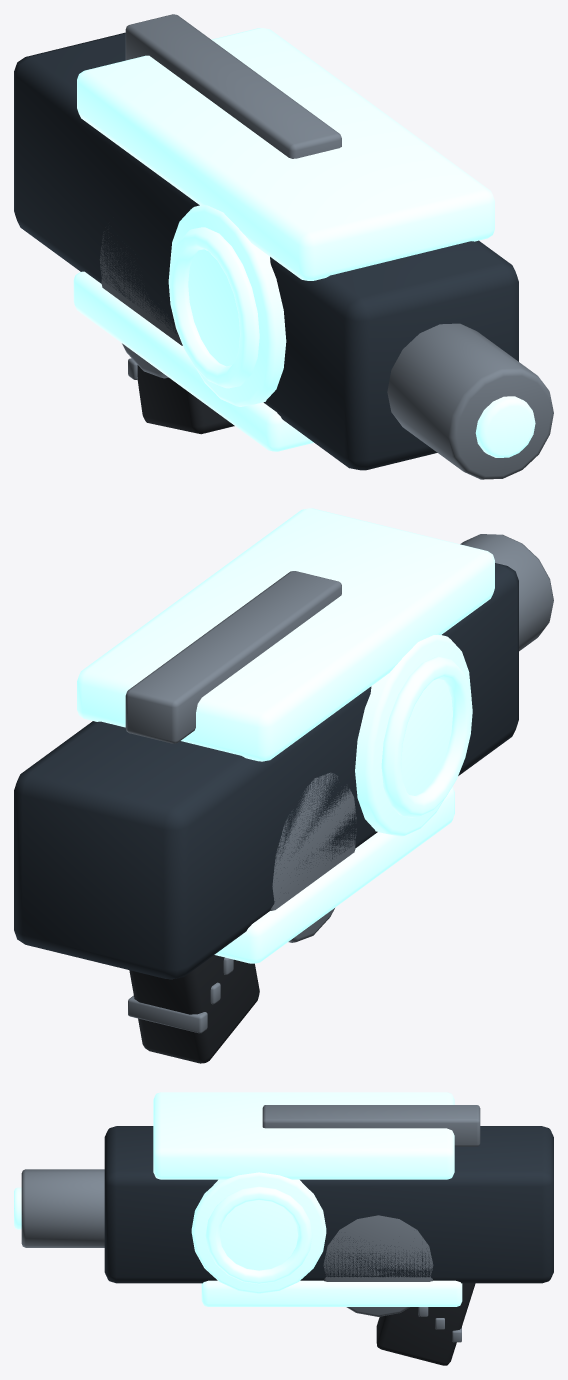
File: Technician_Thumper.fbx
3 views of the same model, one above another, from view 1: azimuth 30°, elevation 25°; view 2: azimuth 150°, elevation 25°; view 3: azimuth 270°, elevation 25° (orthographic). The views are drawn at different scales.
Parts seen in each view (by area): view 1: Receiver.008, UpperArmor.004, Muzzle.004, TopRail.008, EnergyChamber.004, LowerArmor.004, EnergyRingLeft.004, Grip.008, MuzzleGlow.004, Drum; view 2: Receiver.008, UpperArmor.004, TopRail.008, EnergyChamber.004, Grip.008, LowerArmor.004, Drum, EnergyRingLeft.004, Muzzle.004, GripRib_03.008; view 3: Receiver.008, UpperArmor.004, EnergyChamber.004, Muzzle.004, Drum, LowerArmor.004, TopRail.008, Grip.008, EnergyRingRight.004.
Part boxes in pixels (x1,y1,x2,y2): Receiver.008: (14,32,518,470); UpperArmor.004: (77,28,494,280); Muzzle.004: (387,323,553,479); TopRail.008: (125,14,341,158); EnergyChamber.004: (169,205,286,406); LowerArmor.004: (73,271,313,451); EnergyRingLeft.004: (168,227,259,388); Grip.008: (137,365,234,434); MuzzleGlow.004: (475,396,535,457); Drum: (99,227,182,378); Receiver.008: (14,563,518,979); UpperArmor.004: (77,508,494,761); TopRail.008: (125,571,341,743); EnergyChamber.004: (355,634,471,836); Grip.008: (129,955,259,1063); LowerArmor.004: (214,787,454,963); Drum: (270,772,356,942); EnergyRingLeft.004: (381,656,472,817); Muzzle.004: (460,534,553,651); GripRib_03.008: (128,995,207,1033); Receiver.008: (104,1126,553,1283); UpperArmor.004: (153,1092,454,1179); EnergyChamber.004: (191,1172,326,1293); Muzzle.004: (21,1169,104,1247); Drum: (323,1215,433,1316); LowerArmor.004: (201,1280,462,1306); TopRail.008: (262,1105,480,1146); Grip.008: (376,1283,475,1365); EnergyRingRight.004: (205,1186,312,1284).
Size of the model in its own units: 122 by 193 by 385.
